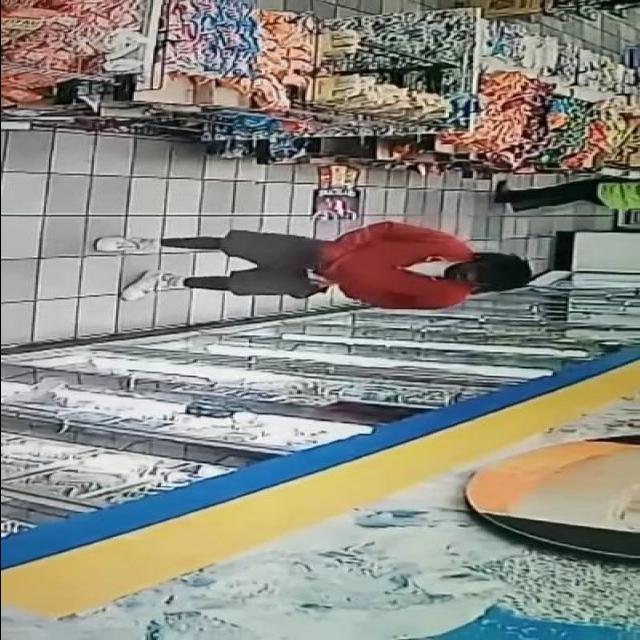Shoplifting: (81, 212, 551, 353)
